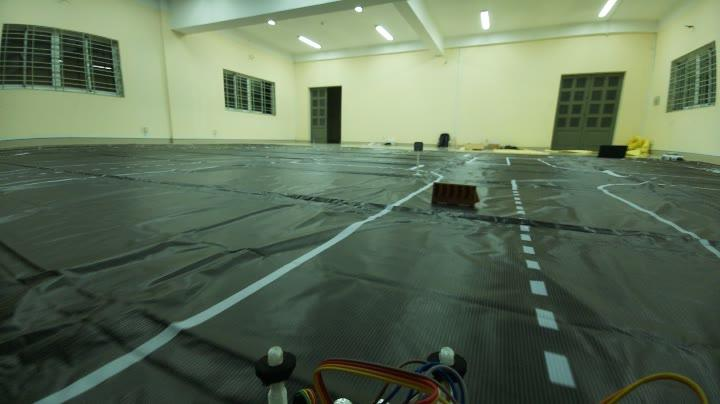roadblock: (424, 180, 483, 214)
